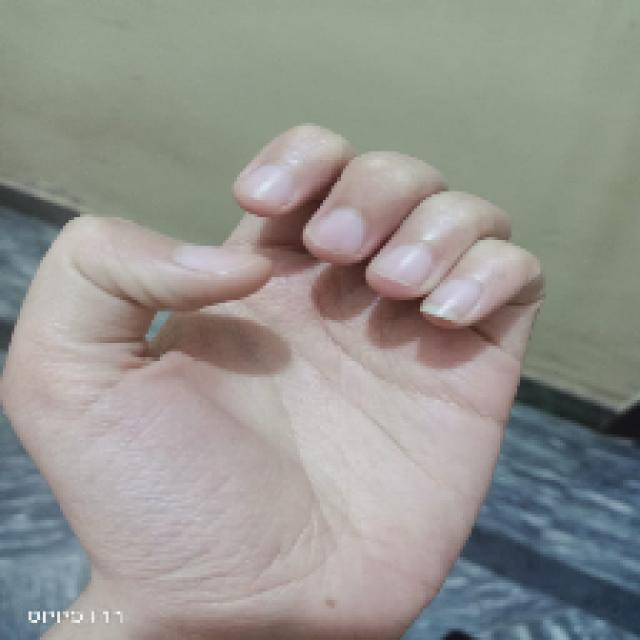Nail: (420, 280, 481, 321), (374, 244, 432, 286), (310, 209, 364, 253), (174, 245, 248, 274), (240, 165, 292, 206)
